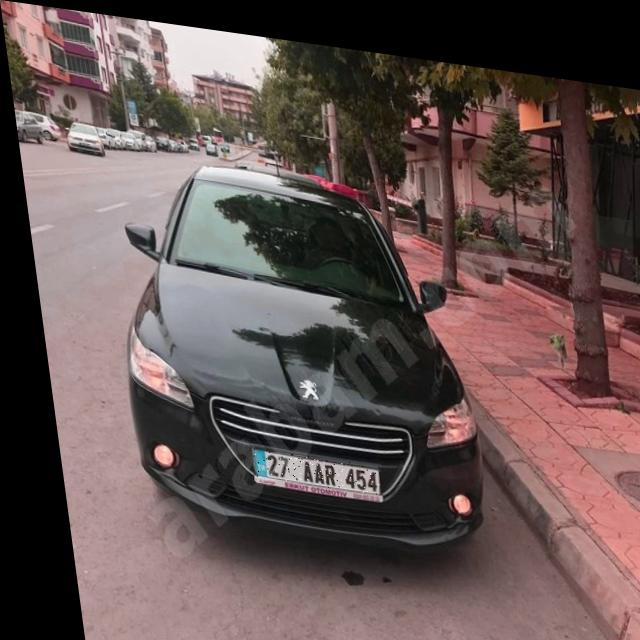license_plate: (240, 443, 369, 486)
